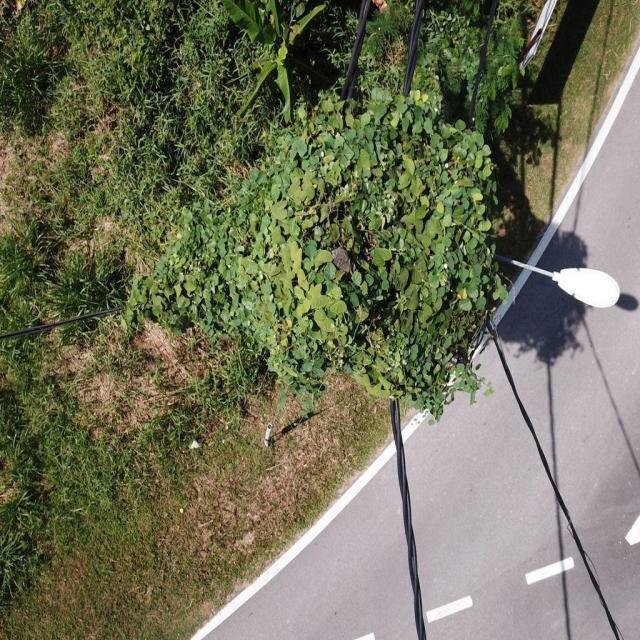critical vegetation: (170, 79, 503, 428)
